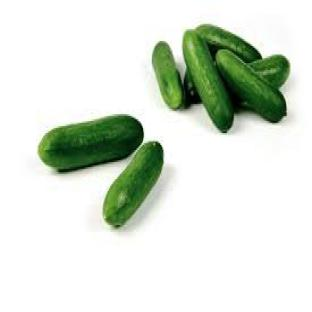Cucumber: (39, 115, 144, 170), (216, 50, 287, 122), (183, 31, 233, 132), (104, 142, 163, 226), (197, 24, 260, 63), (153, 41, 183, 109), (250, 55, 290, 88), (184, 69, 200, 105)
